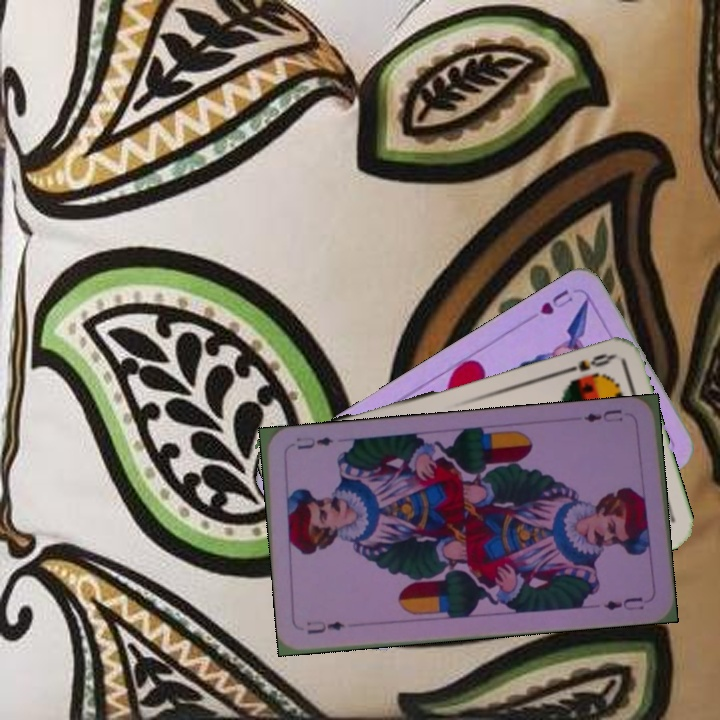EU: (303, 616, 347, 637), (580, 405, 626, 425)
HU: (536, 285, 576, 318)
SO: (558, 349, 616, 377)
